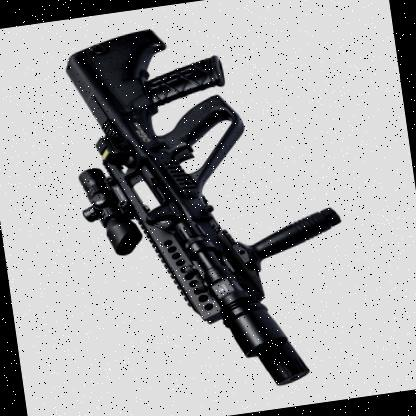rifle: (29, 6, 360, 416)
